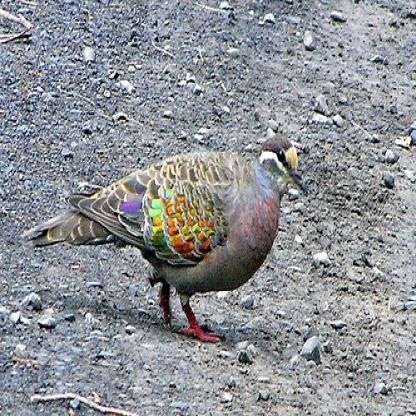bird: (20, 131, 309, 346)
